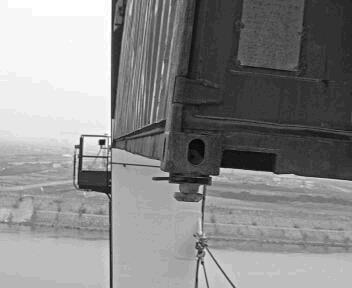twist_lock_1: (159, 165, 219, 207)
